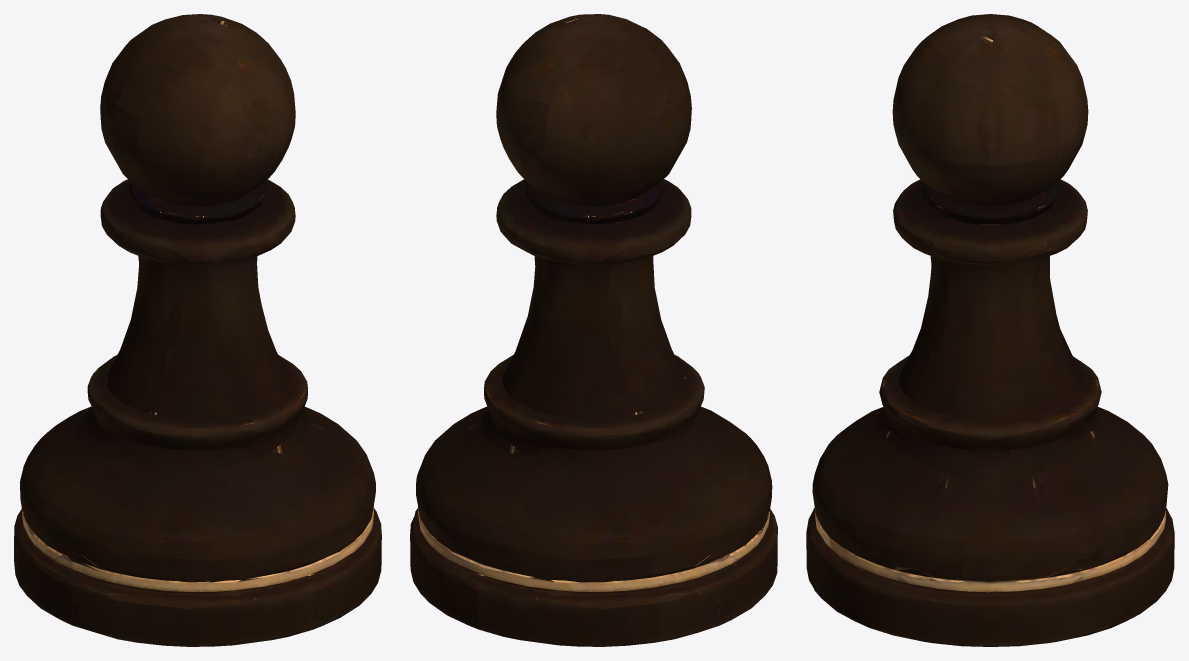
3 views of the same model, side by side, from view 1: azimuth 30°, elevation 25°; view 2: azimuth 150°, elevation 25°; view 3: azimuth 270°, elevation 25° (orthographic).
Visible parts, largest first — view 1: geometry_0; view 2: geometry_0; view 3: geometry_0.
Boxes of the visible parts, <box> form: geometry_0: <box>14,14,381,646</box>; geometry_0: <box>410,14,777,646</box>; geometry_0: <box>806,14,1174,646</box>.
Size of the model in its own units: 0.6123 by 1 by 0.6118.
Materials: 1 (1 with a texture image).
